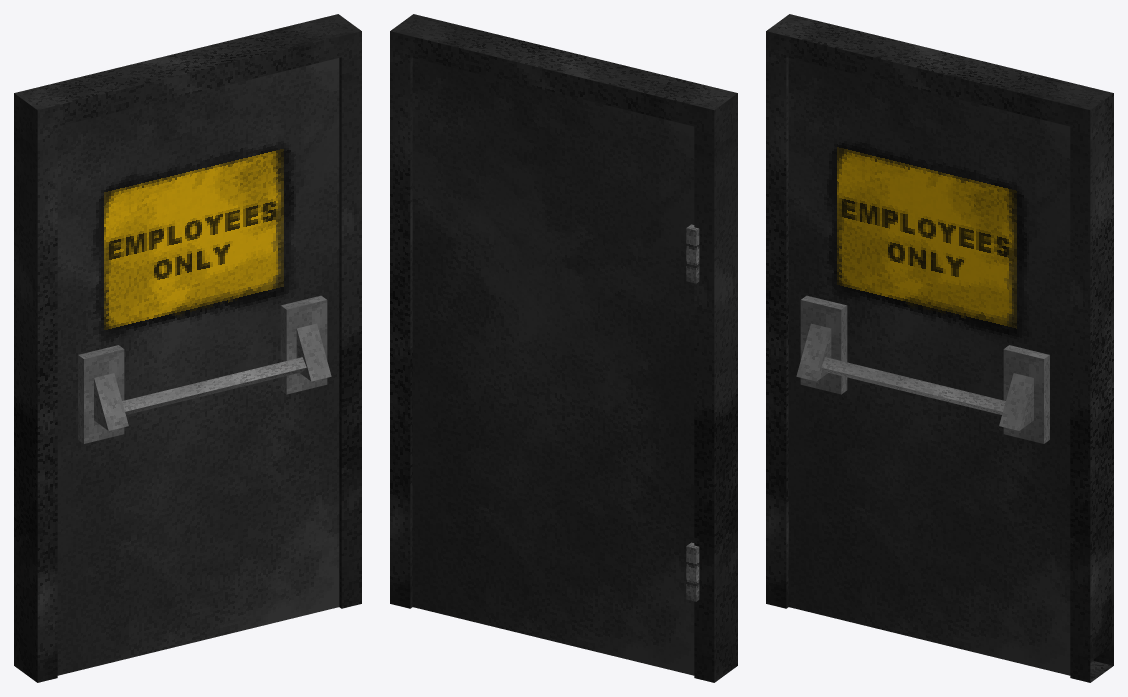
The picture shows the model from 3 angles, left to right: view 1: azimuth 30°, elevation 25°; view 2: azimuth 150°, elevation 25°; view 3: azimuth 330°, elevation 25°; orthographic projection.
Parts seen in each view (by area): view 1: door, frame, handle1, handle2, rod; view 2: door, frame, hinge1, hinge2; view 3: door, frame, handle2, handle1, rod.
Part boxes in pixels (bbox=[...]): door: bbox=[57, 58, 339, 675]; frame: bbox=[14, 14, 361, 682]; handle1: bbox=[78, 345, 128, 443]; handle2: bbox=[280, 295, 331, 394]; rod: bbox=[122, 357, 306, 414]; door: bbox=[412, 58, 694, 675]; frame: bbox=[390, 14, 737, 682]; hinge1: bbox=[686, 542, 699, 601]; hinge2: bbox=[686, 224, 699, 283]; door: bbox=[788, 58, 1070, 675]; frame: bbox=[766, 14, 1113, 682]; handle2: bbox=[999, 345, 1049, 443]; handle1: bbox=[796, 295, 847, 394]; rod: bbox=[821, 357, 1005, 414].
Size of the model in its own units: 1 by 1.69 by 0.25.
Materials: 1 (1 with a texture image).
